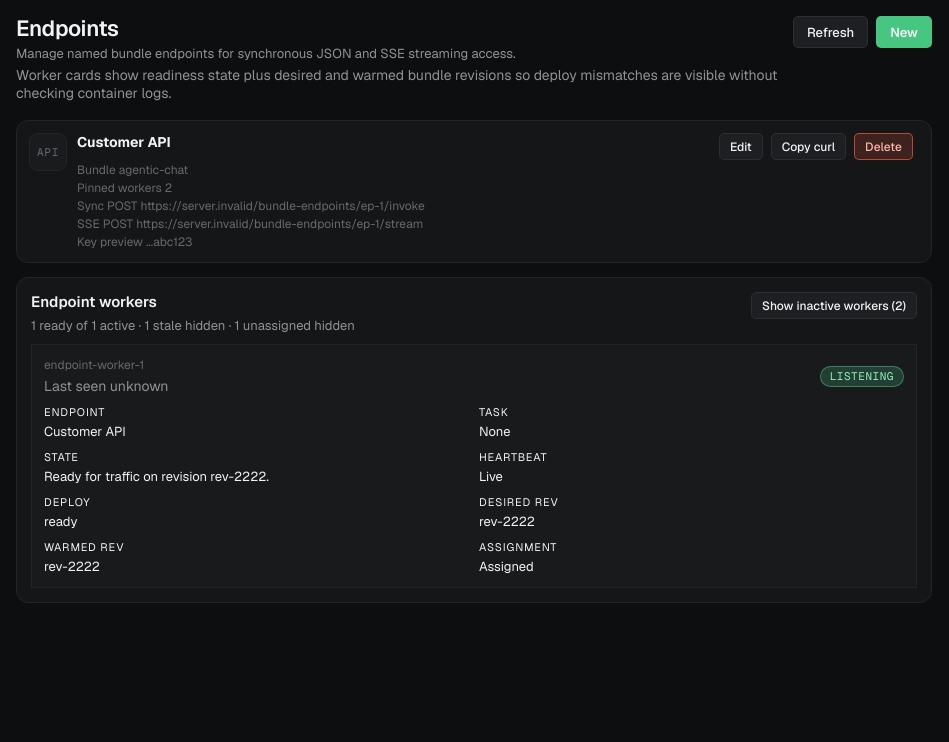
it: EndpointsPage › renders endpoint list and deletes an endpoint
Expected: the text "Customer API" is shown, [77,133,171,151]
Expected: the text "Bundle agentic-chat" is shown, [77,162,188,178]
Click the button "Show inactive workers (2)" at (834, 306), box [751,292,917,319]
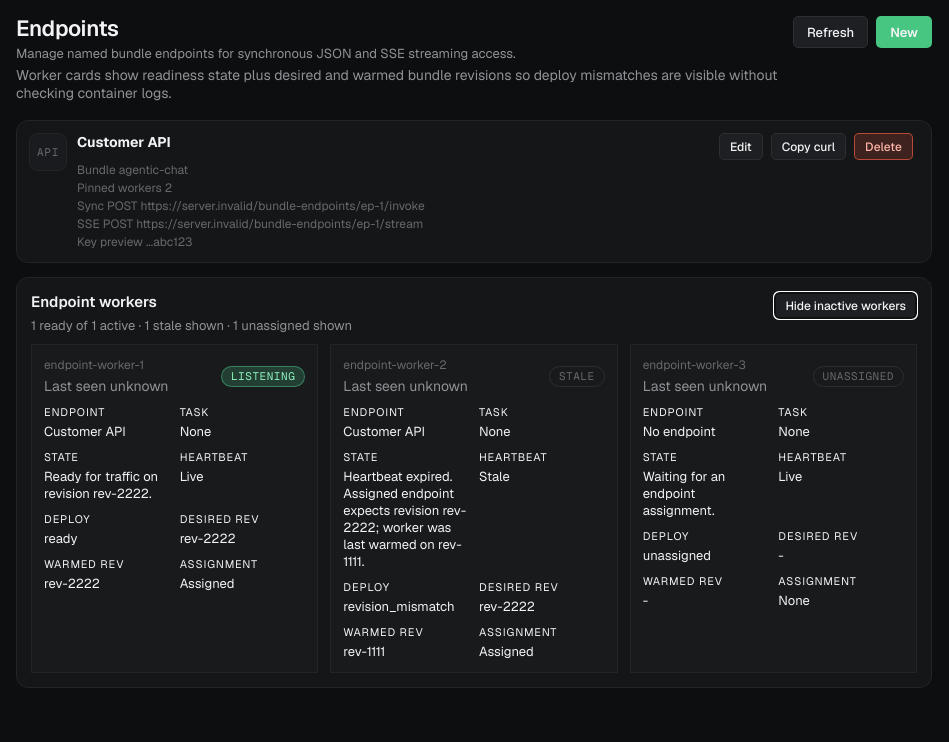
Expected: the text "1 ready of 1 active · 1 stale shown · 1 unassigned shown" is shown, [31,317,352,334]
Expected: the text "endpoint-worker-2" is shown, [343,357,447,373]
Expected: the text "endpoint-worker-3" is shown, [643,357,746,373]
Click the button "Delete" at (884, 147), box [854,133,913,160]
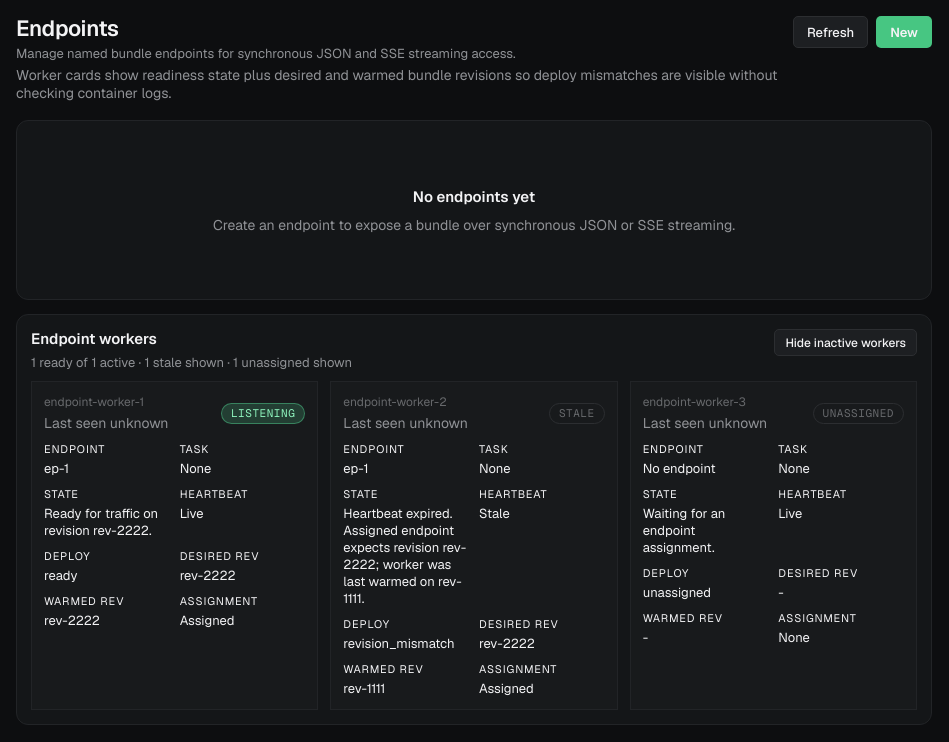
Expected: the text "No endpoints yet" is shown, [413,187,535,206]
